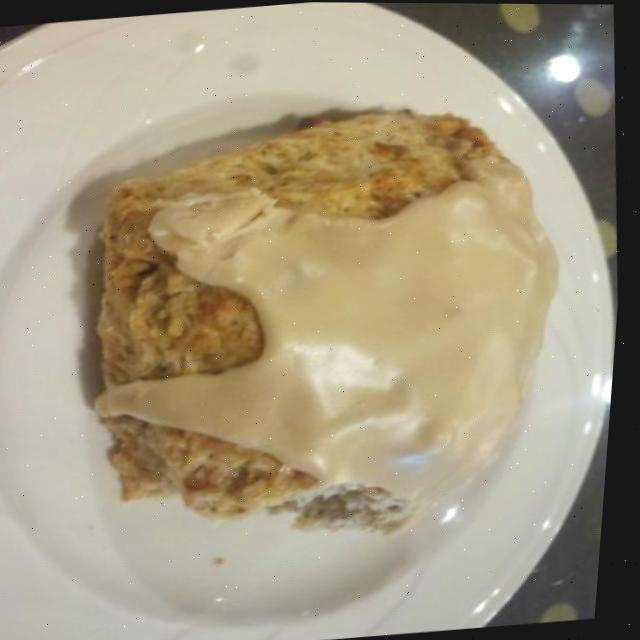面包点心: (63, 100, 582, 557)
